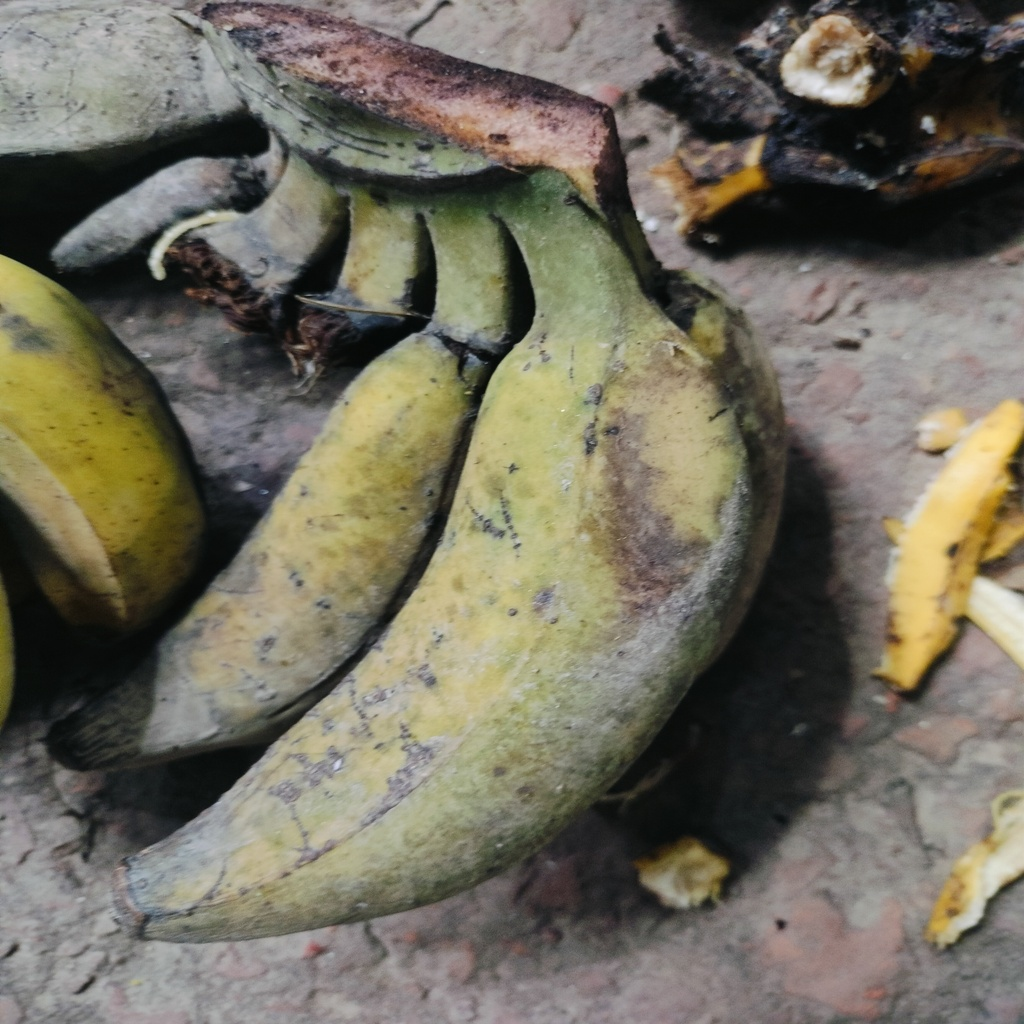unhealthy: (118, 276, 778, 946)
